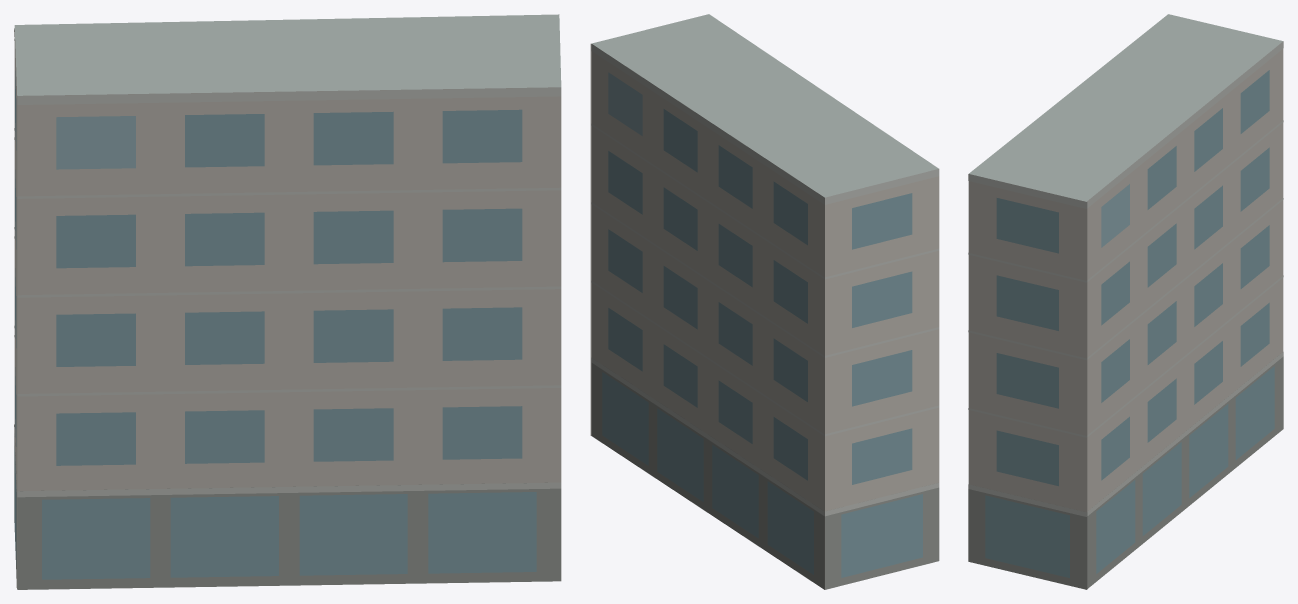
Rendered from survey-upis-32733029.glb.
3 views of the same model, side by side, from view 1: azimuth 30°, elevation 25°; view 2: azimuth 150°, elevation 25°; view 3: azimuth 270°, elevation 25° (orthographic). The views are drawn at different scales.
Visible parts, largest first — view 1: survey-upis-32733029.tmp; view 2: survey-upis-32733029.tmp; view 3: survey-upis-32733029.tmp.
Part boxes in pixels (x1,y1,x2,y2): survey-upis-32733029.tmp: [14, 14, 561, 589]; survey-upis-32733029.tmp: [590, 14, 939, 589]; survey-upis-32733029.tmp: [968, 14, 1283, 589].
Size of the model in its own units: 13.64 by 13.1 by 9.66.
